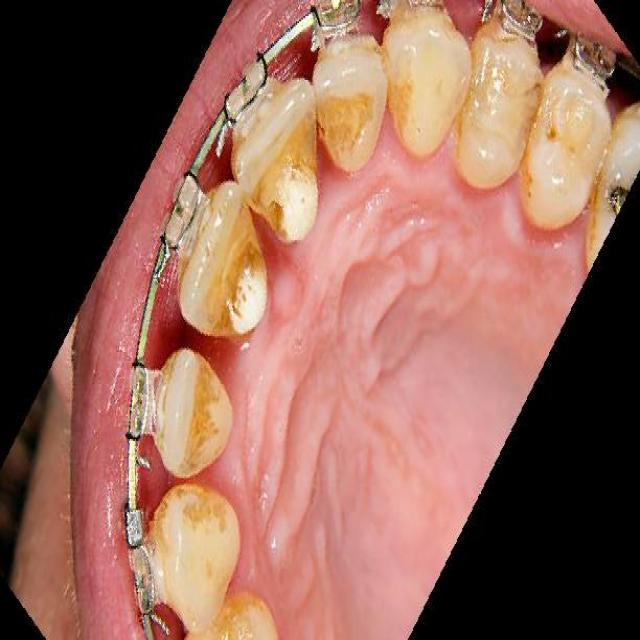caries: (258, 114, 322, 246), (208, 225, 270, 352), (600, 167, 629, 219)
